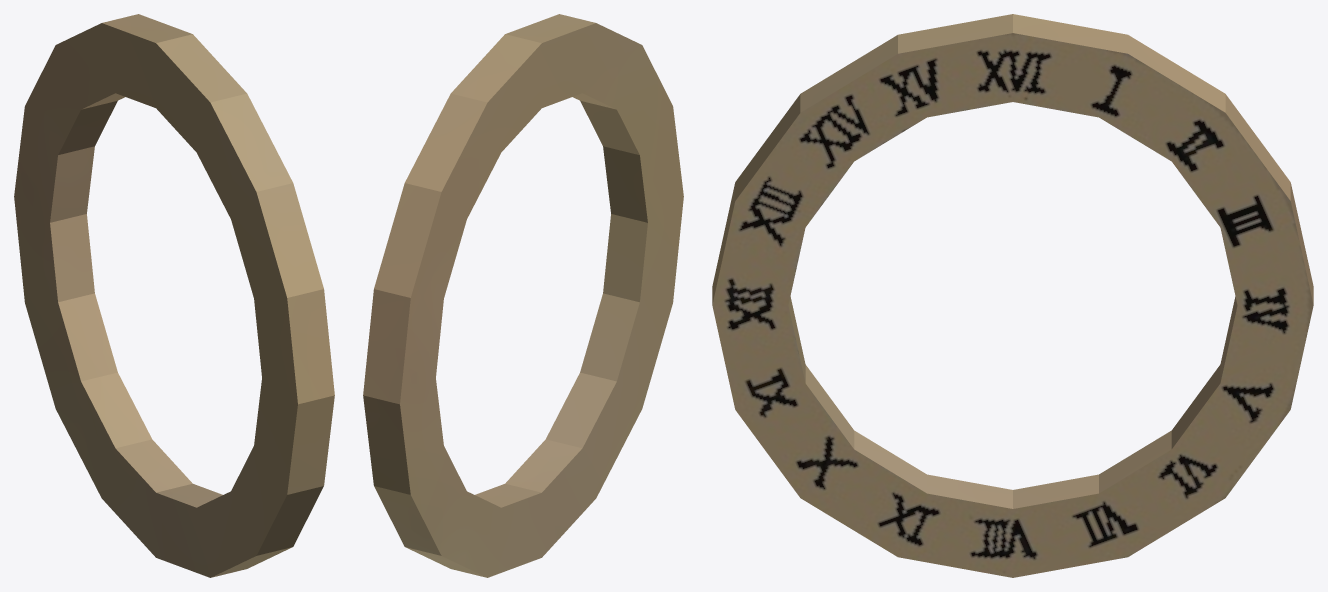
File: telescope puzzle1.fbx
3 views of the same model, side by side, from view 1: azimuth 30°, elevation 25°; view 2: azimuth 150°, elevation 25°; view 3: azimuth 270°, elevation 25° (orthographic). The views are drawn at different scales.
Visible parts, largest first — view 1: telescope puzzle1; view 2: telescope puzzle1; view 3: telescope puzzle1.
Boxes of the visible parts, bbox=[...] form: telescope puzzle1: bbox=[14, 14, 334, 577]; telescope puzzle1: bbox=[363, 14, 683, 577]; telescope puzzle1: bbox=[712, 14, 1313, 577].
Bounding box in the file's own units: 15 × 200 × 200.
